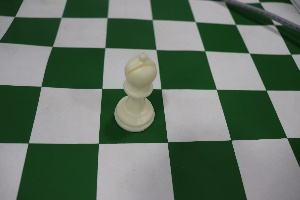white_bishop: (113, 37, 161, 136)
